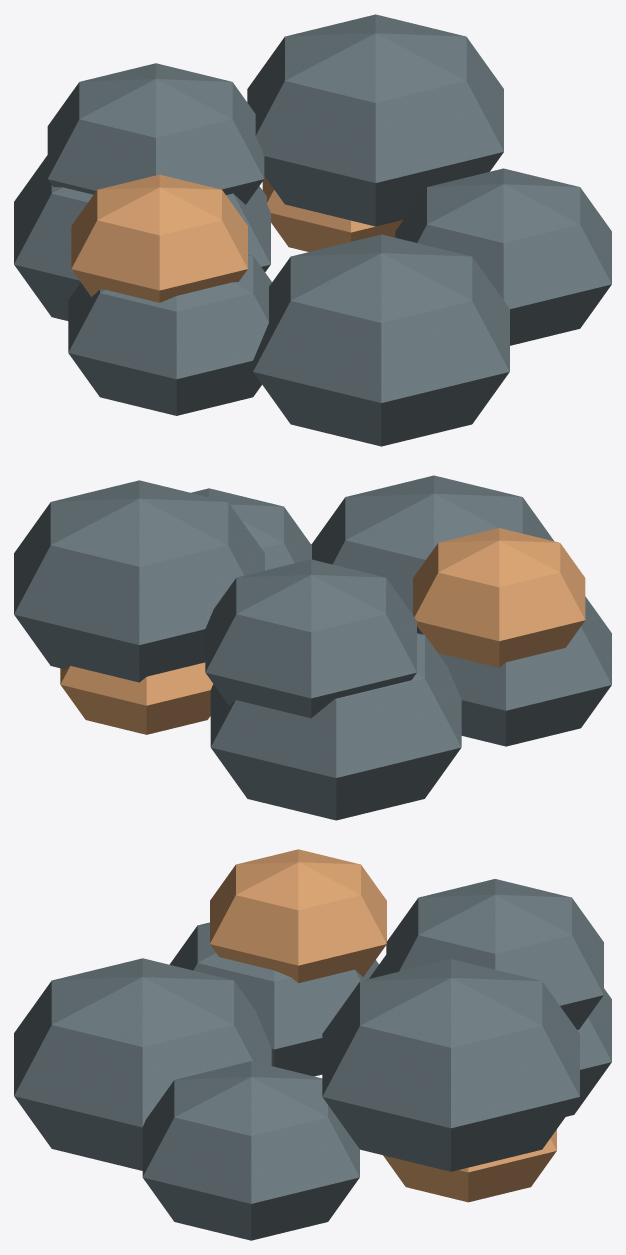
Rendered from dwarven-runeforge-dungeon-dwarven-runeforge-dungeon-sl-6bb40c26__28615.glb.
The picture shows the model from 3 angles, top to bottom: view 1: azimuth 30°, elevation 25°; view 2: azimuth 150°, elevation 25°; view 3: azimuth 270°, elevation 25°; orthographic projection. The views are drawn at different scales.
Visible parts, largest first — view 1: dwarven-runeforge-dungeon-slag-pile; view 2: dwarven-runeforge-dungeon-slag-pile; view 3: dwarven-runeforge-dungeon-slag-pile.
Part boxes in pixels (x1,y1,x2,y2): dwarven-runeforge-dungeon-slag-pile: (14,14,611,446); dwarven-runeforge-dungeon-slag-pile: (14,475,611,820); dwarven-runeforge-dungeon-slag-pile: (14,849,611,1240).
Size of the model in its own units: 1.33 by 0.5859 by 1.29.
Materials: 2 (1 with a texture image).
